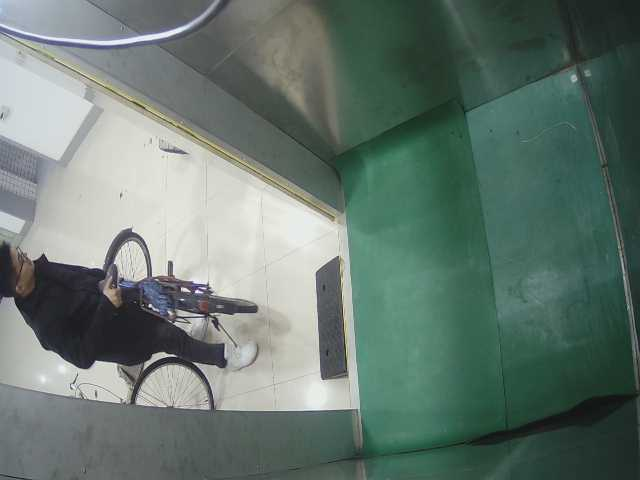bicycle: (103, 228, 263, 332), (72, 357, 235, 419)
person: (1, 237, 267, 380)
